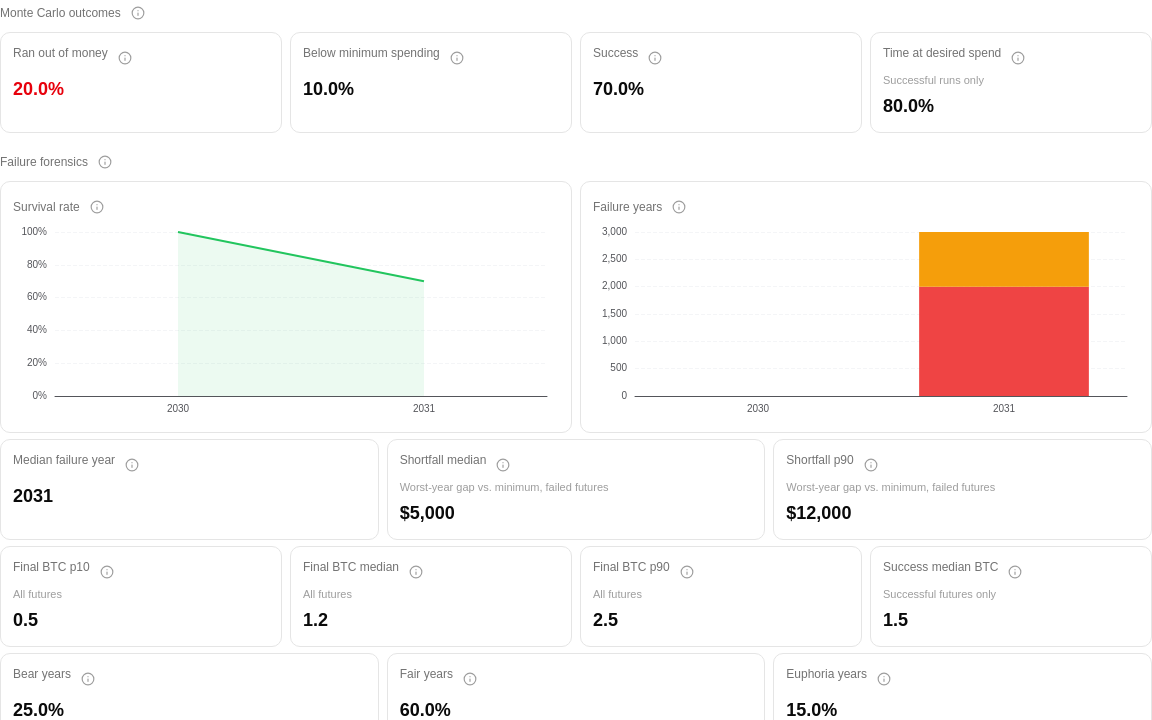
WithdrawalResults › shows info buttons for each Monte Carlo metric
This screenshot has width=1152, height=720.
Expected: the button named "About Monte Carlo outcomes" is shown, [125,0,151,26]
Click the button named "About Ran out of money" at (125, 58), box [112,45,138,71]
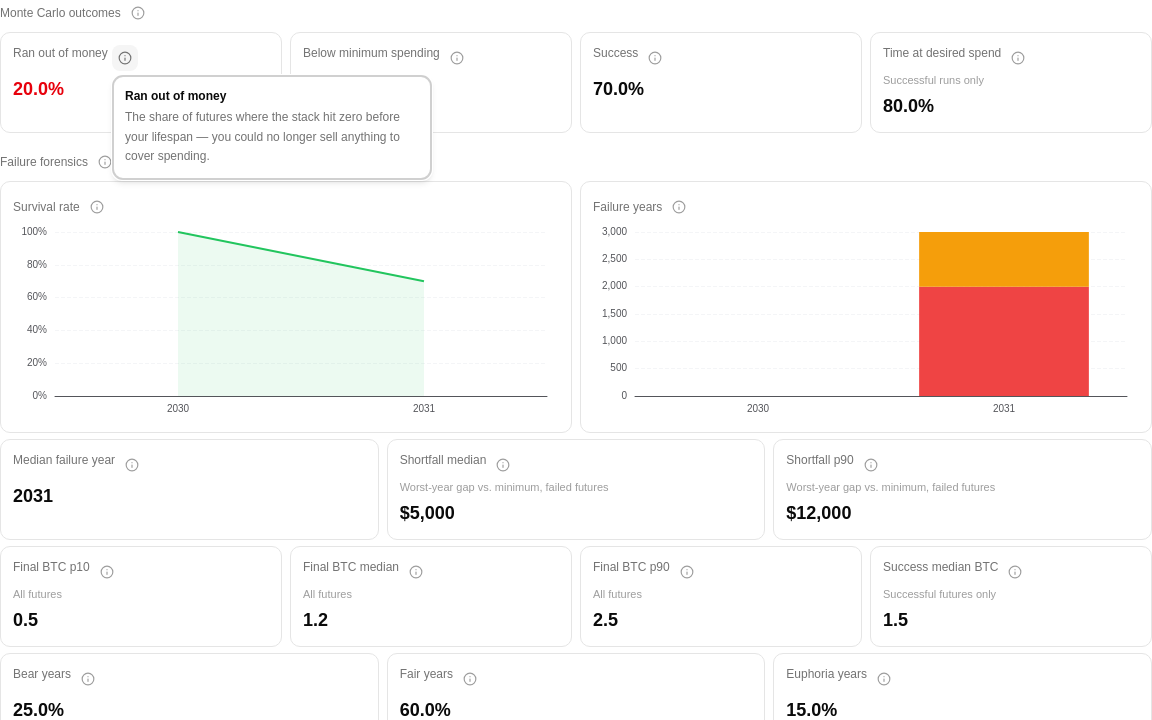
Now the text "stack hit zero" is shown, box [125,110,400,163]
